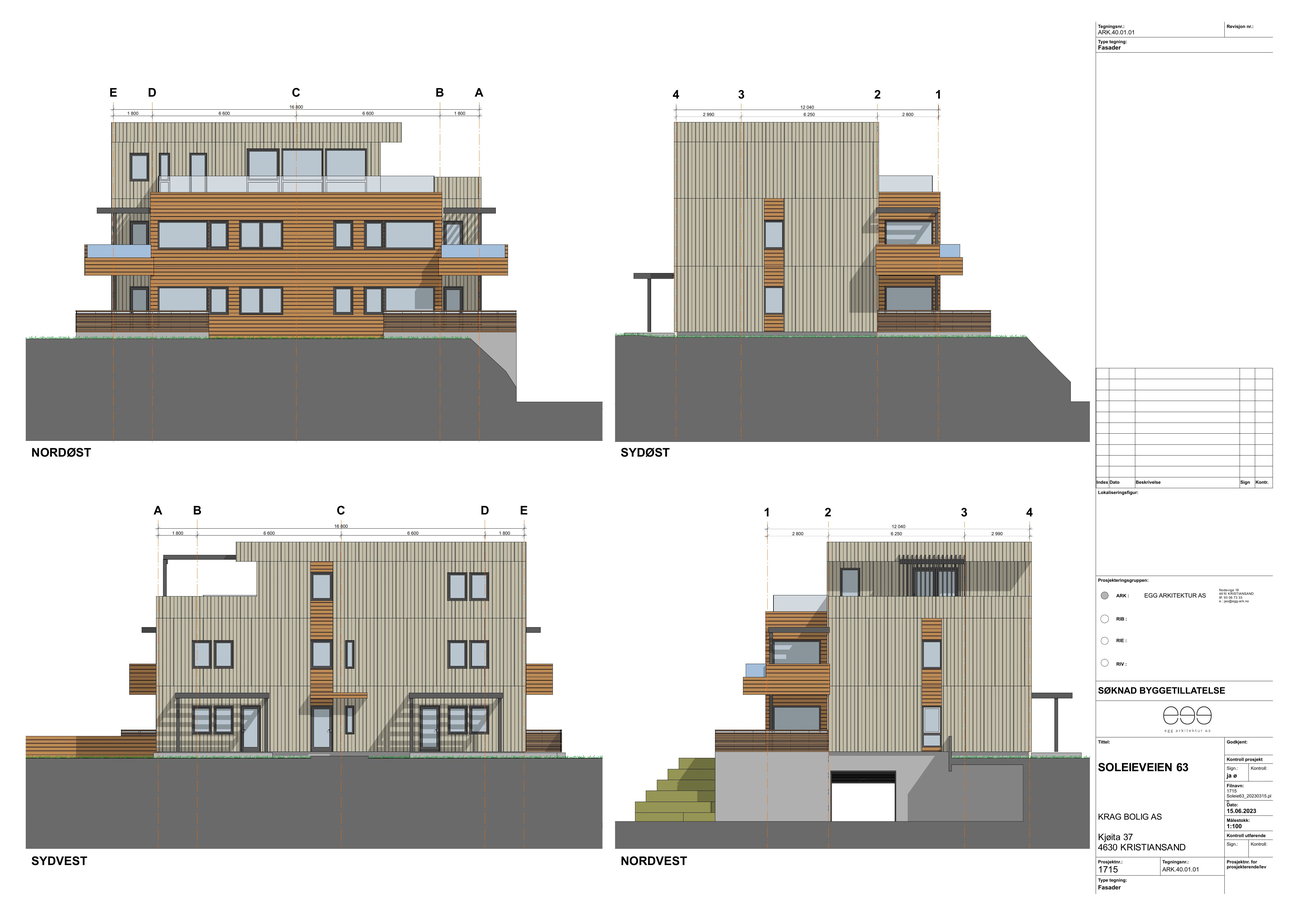fasade: (71, 103, 520, 351), (154, 540, 566, 762), (748, 537, 1046, 827), (632, 116, 992, 333)
tekst: (617, 853, 694, 873), (27, 851, 99, 870), (24, 444, 100, 459), (613, 448, 676, 463), (1097, 43, 1123, 51), (1226, 821, 1248, 830)
